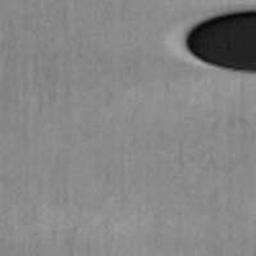Punching: (186, 12, 256, 76)
